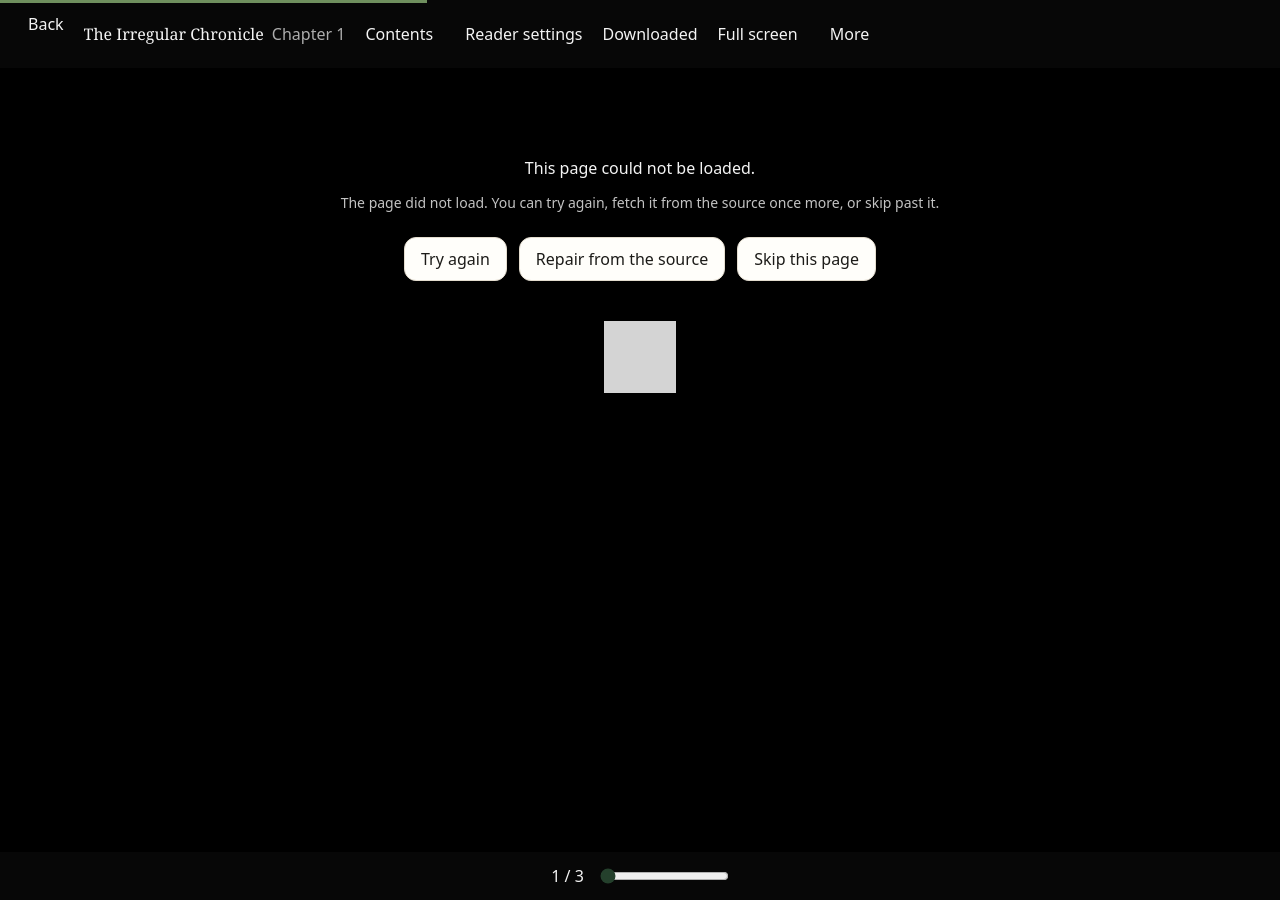
Sequential Reader › reports a failed Repair without hiding independent page Retry, then clears the error on success
Click the button "Repair from the source" at (622, 259), box top-left (519, 237), bottom-right (725, 281)
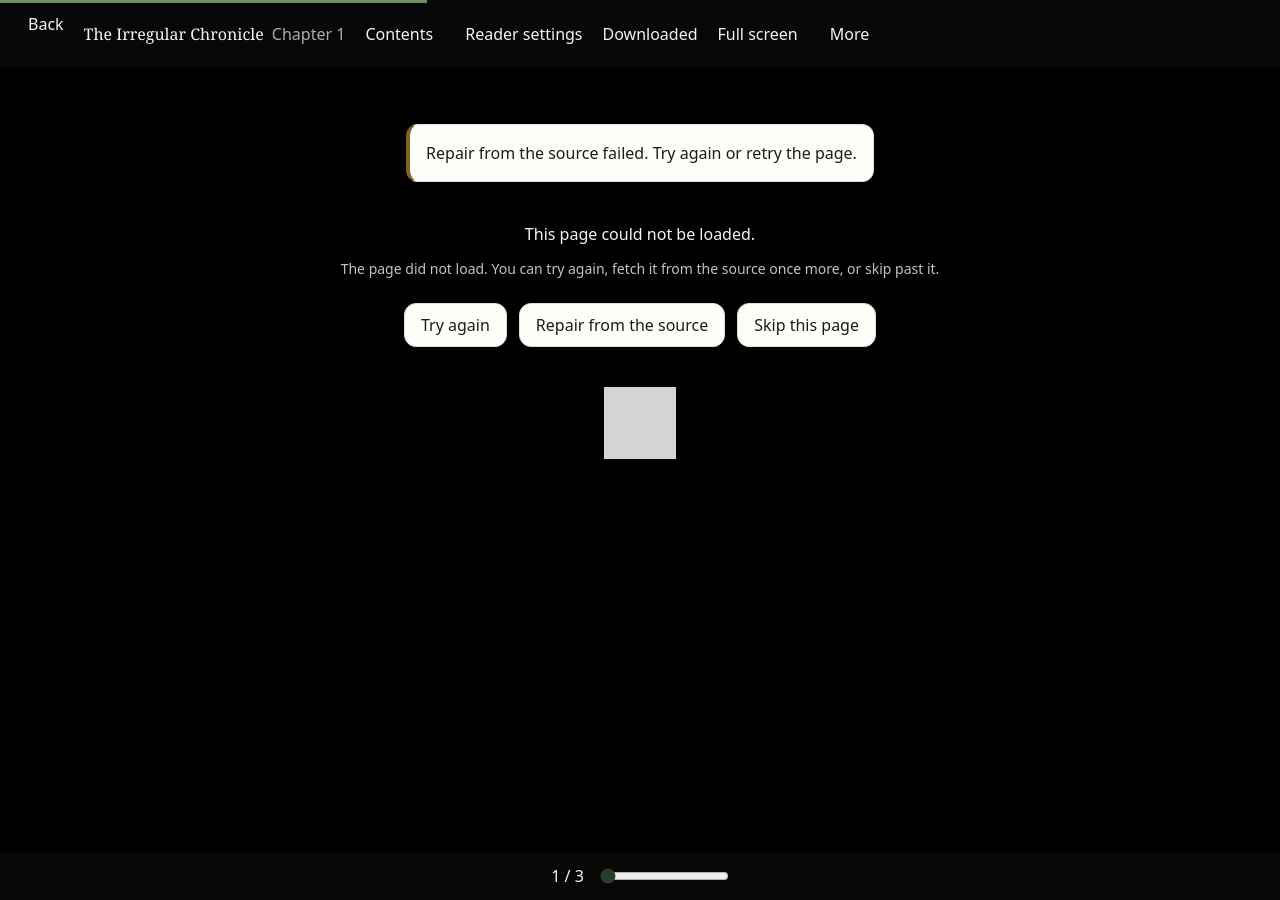
expect the button "Try again" is enabled: met, box top-left (404, 303), bottom-right (507, 347)
expect the message shows "Repair": met, box top-left (426, 142), bottom-right (857, 164)
Click the button "Repair from the source" at (622, 325), box top-left (519, 303), bottom-right (725, 347)
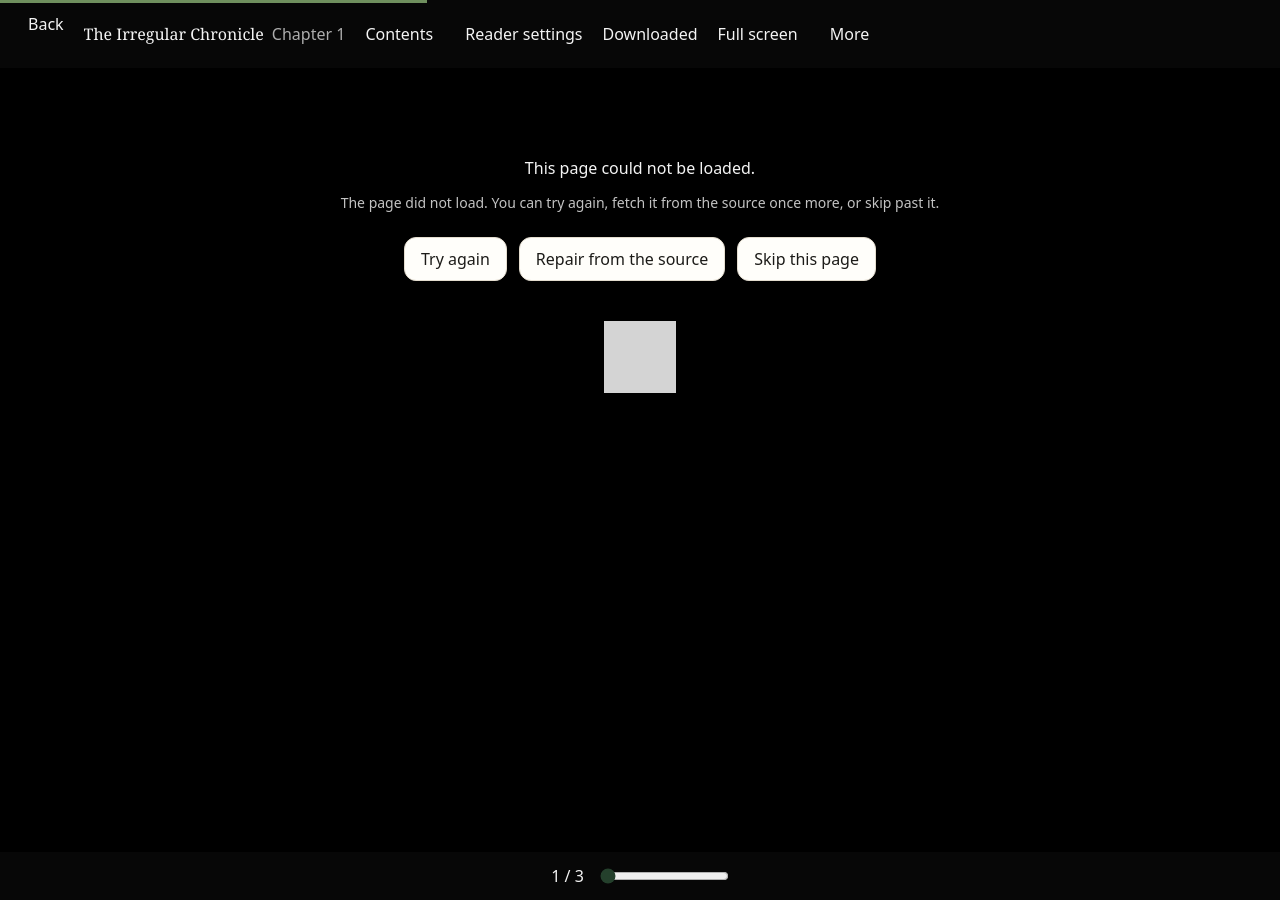
expect the message "Repair from the source failed. Try again or retry the page." is gone: met
